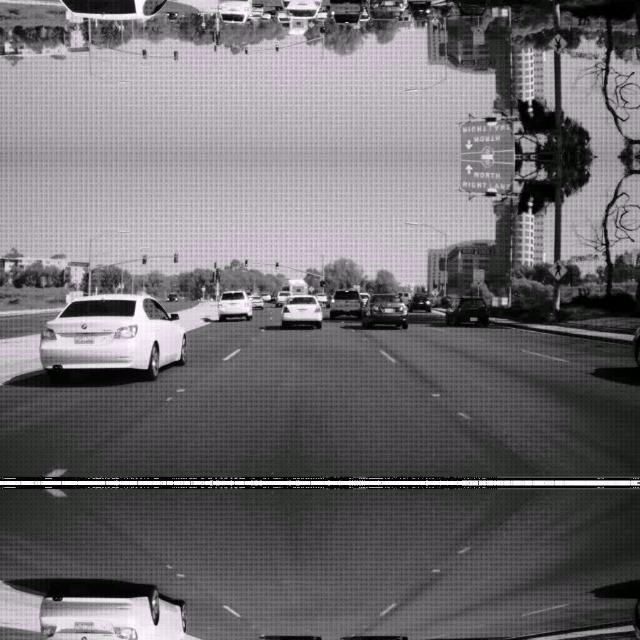pedestrianCrossing: (546, 258, 568, 278), (546, 34, 568, 54)
signalAhead: (430, 286, 440, 296), (430, 16, 440, 26)
